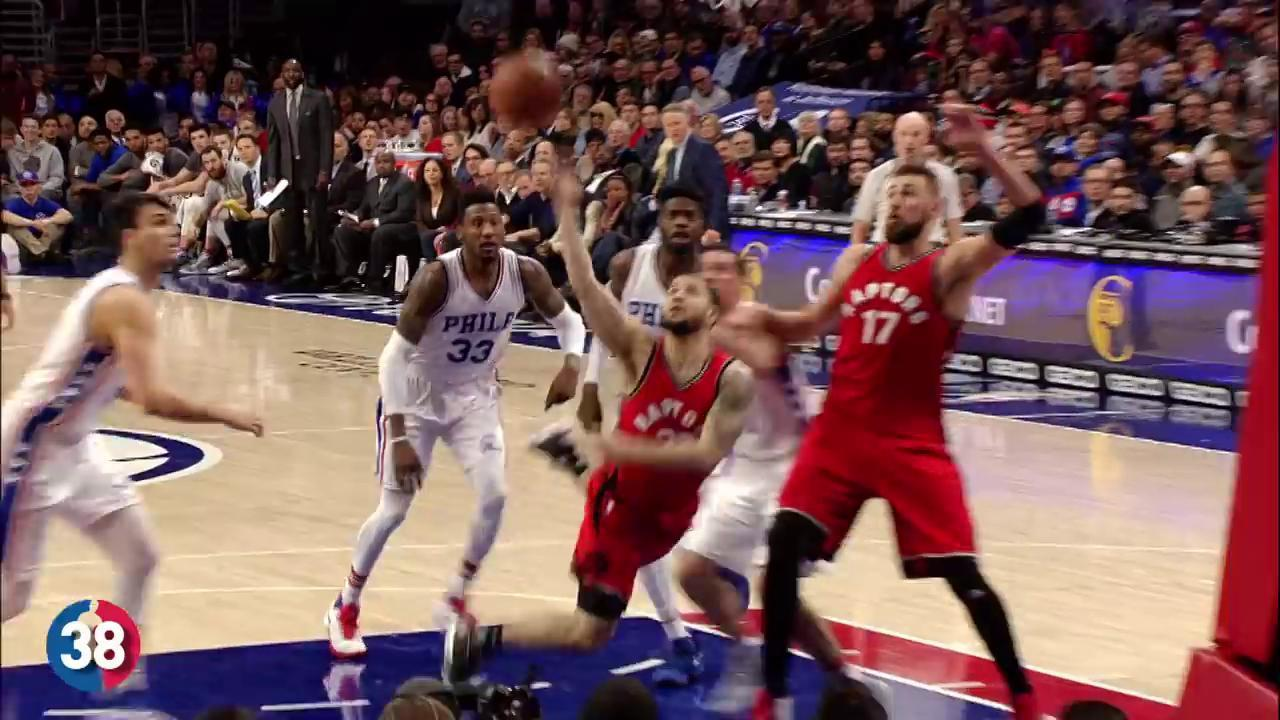ball: (485, 48, 565, 138)
human: (728, 95, 1052, 720), (432, 153, 760, 684), (0, 183, 273, 696), (328, 180, 588, 676), (580, 185, 704, 442)
